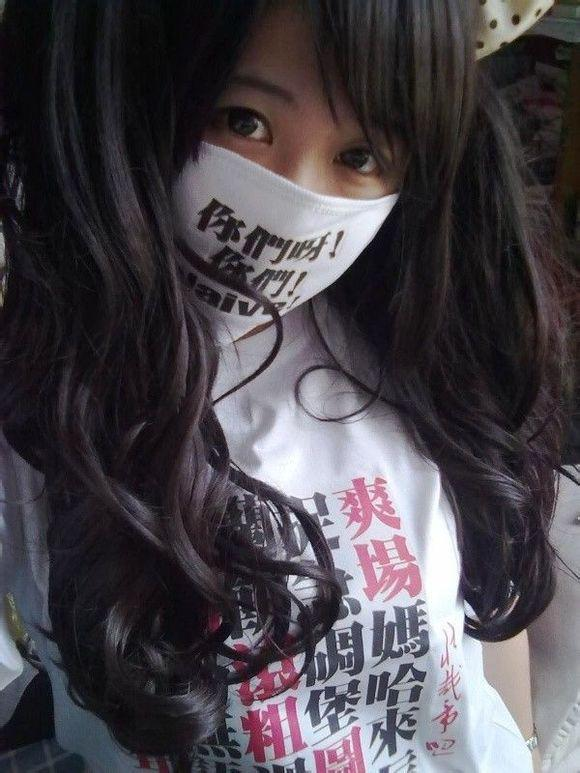OK: (160, 74, 408, 315)
